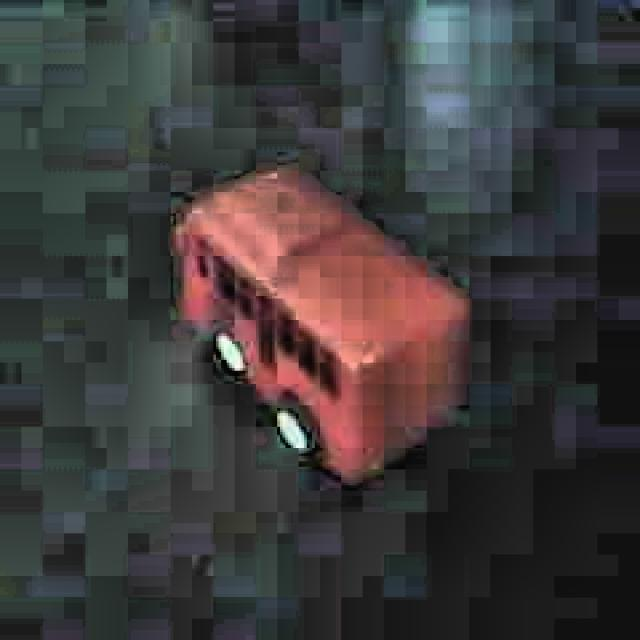bus: (172, 157, 477, 486)
